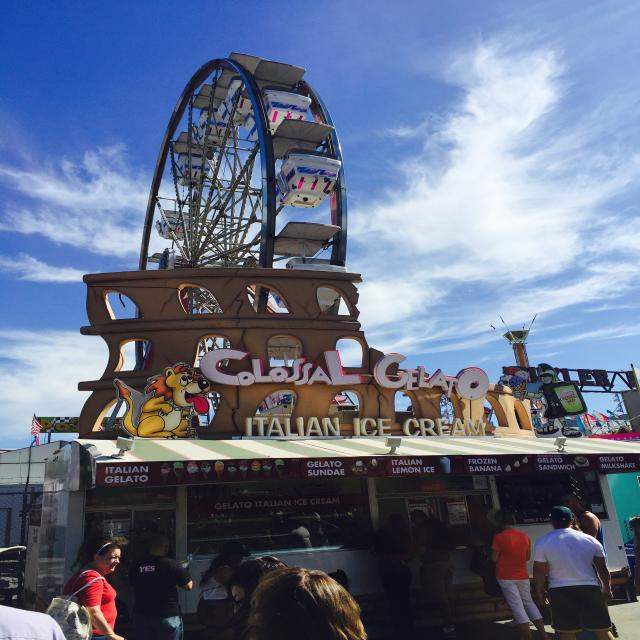body: (223, 555, 373, 640), (532, 505, 620, 640), (489, 508, 551, 640), (189, 509, 366, 552), (126, 532, 194, 640), (406, 509, 461, 633), (61, 539, 124, 640), (368, 513, 416, 629), (196, 543, 252, 630), (555, 492, 609, 578), (0, 598, 68, 639), (78, 510, 130, 538), (626, 514, 640, 602), (470, 507, 485, 581), (411, 496, 456, 516), (136, 512, 175, 532)
